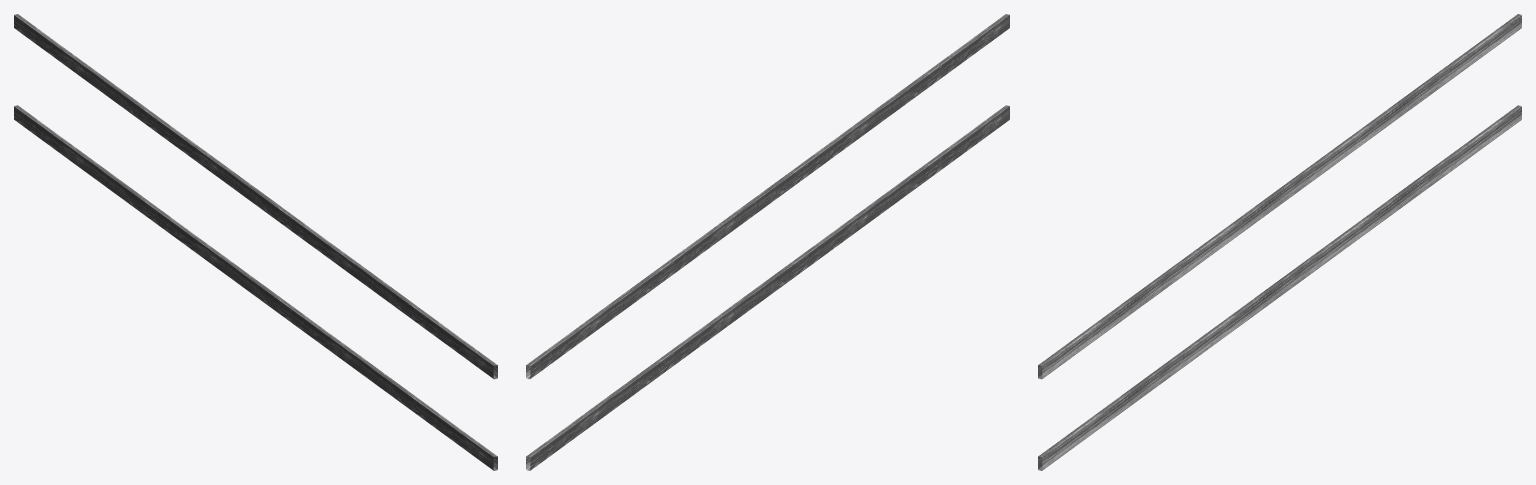
The model's file is SM_Fence_E3_Splines_32.fbx.
The picture shows the model from 3 angles, left to right: view 1: azimuth 30°, elevation 25°; view 2: azimuth 150°, elevation 25°; view 3: azimuth 330°, elevation 25°; orthographic projection.
Parts seen in each view (by area): view 1: SM_Fence_E3_Splines_32; view 2: SM_Fence_E3_Splines_32; view 3: SM_Fence_E3_Splines_32.
Boxes of the visible parts, left/top/right/bottom form: SM_Fence_E3_Splines_32: left=14, top=14, right=497, bottom=470; SM_Fence_E3_Splines_32: left=526, top=14, right=1009, bottom=470; SM_Fence_E3_Splines_32: left=1038, top=14, right=1521, bottom=470.
Bounding box in the file's own units: 2.62 × 510 × 61.66.
Materials: 1 (1 with a texture image).
